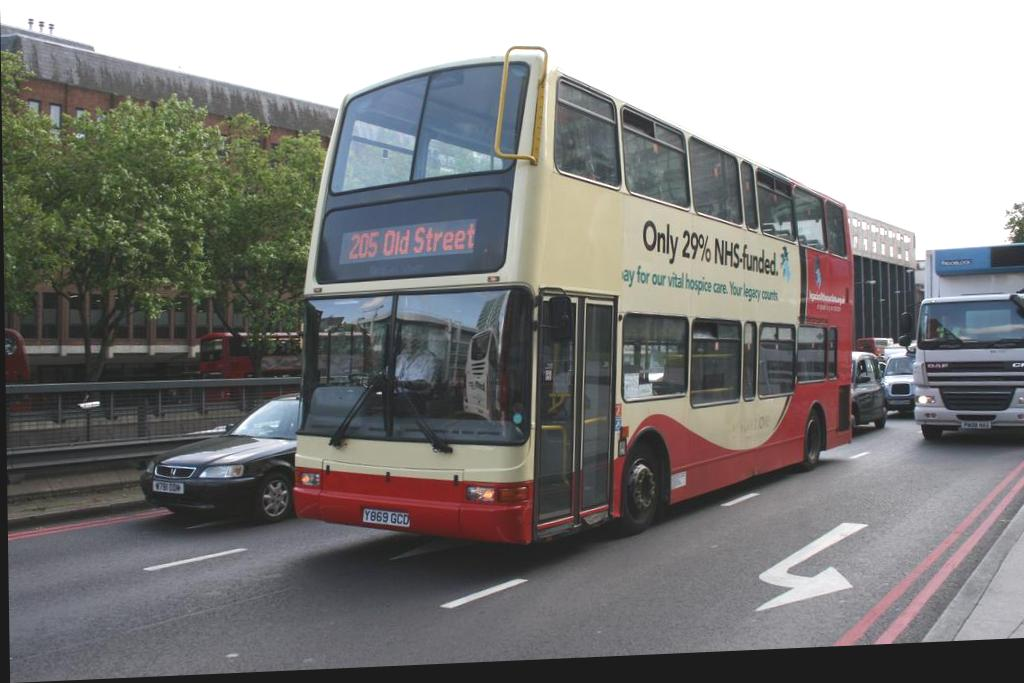License_Plate: (363, 503, 412, 530), (153, 480, 184, 501)
